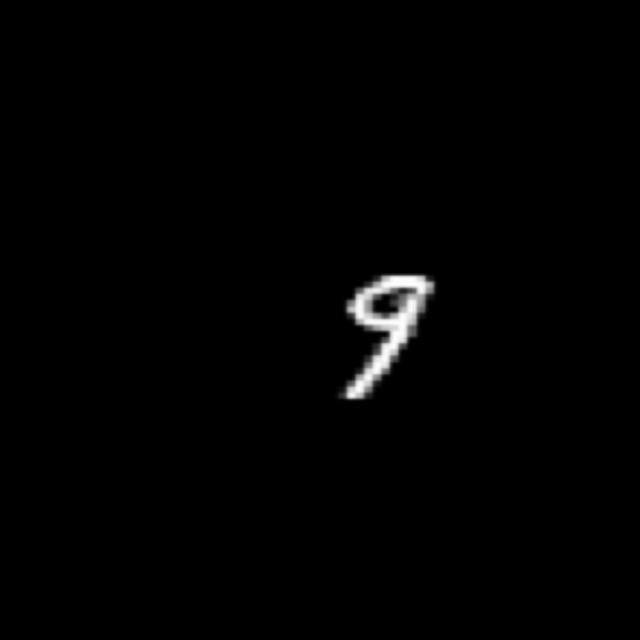nine -9-: (323, 272, 440, 400)
